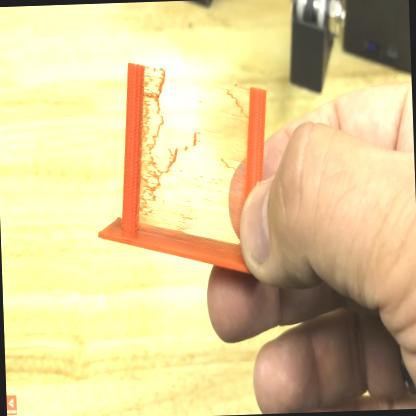fail: (142, 63, 236, 235)
